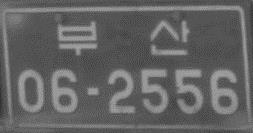-: (83, 84, 103, 99)
0: (16, 68, 46, 114)
2: (107, 67, 137, 115)
5: (173, 67, 204, 116), (140, 67, 170, 116)
6: (209, 66, 240, 116), (50, 68, 79, 116)
부산_D: (55, 17, 191, 58)
